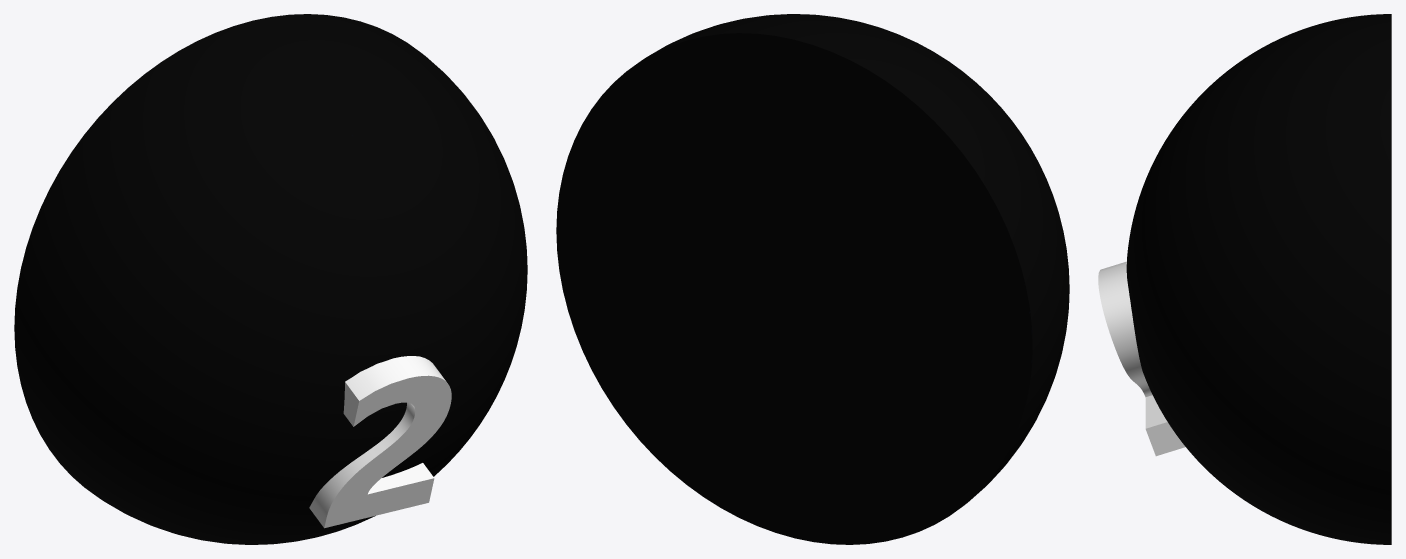
Rendered from button2.fbx.
3 renders of one model, left to right at view 1: azimuth 30°, elevation 25°; view 2: azimuth 150°, elevation 25°; view 3: azimuth 270°, elevation 25°, orthographic. The views are drawn at different scales.
Parts seen in each view (by area): view 1: root, node_id237; view 2: root; view 3: root, node_id237.
Boxes of the visible parts, x1=… form: root: x1=14, y1=14, x2=527, y2=544; node_id237: x1=309, y1=356, x2=451, y2=528; root: x1=556, y1=14, x2=1069, y2=544; root: x1=1126, y1=14, x2=1391, y2=544; node_id237: x1=1098, y1=261, x2=1185, y2=456.
Bounding box in the file's own units: 0.4739 × 0.4739 × 0.2619.
Materials: 2 (2 with a texture image).
